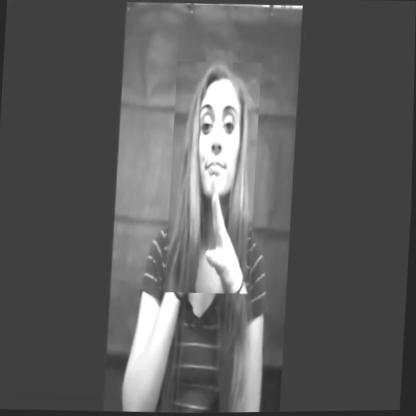Talk: (166, 61, 262, 296)
